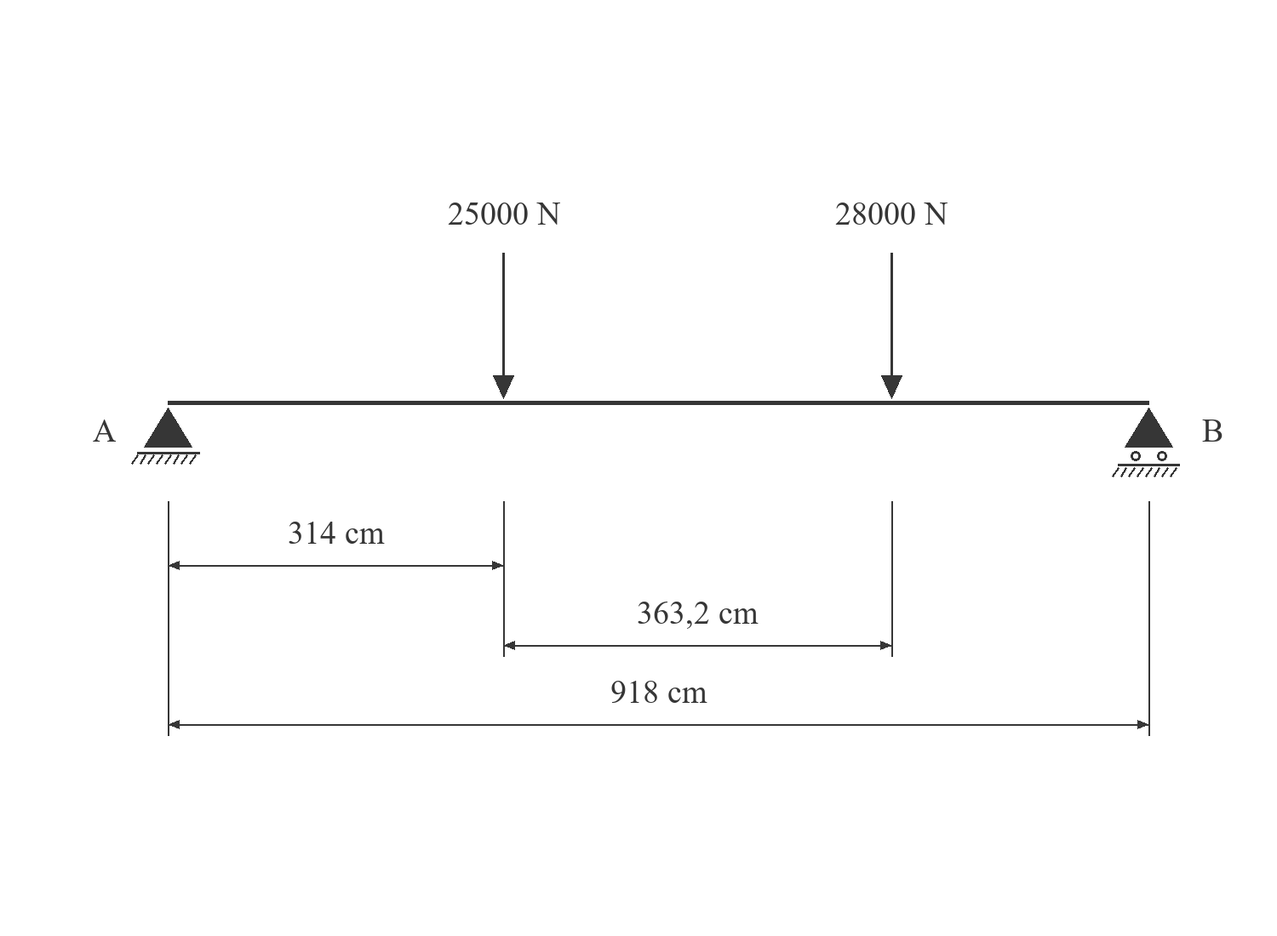pin_support: (131, 408, 200, 465)
point_load: (493, 253, 514, 399), (881, 253, 902, 399)
roller_support: (1112, 408, 1180, 477)
